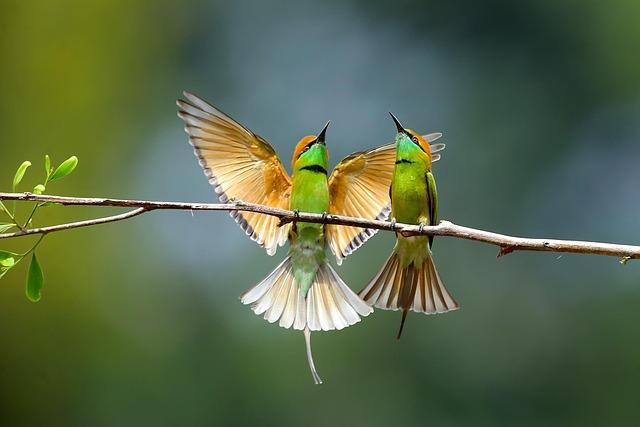bird: (229, 210, 457, 383), (178, 93, 443, 224)
